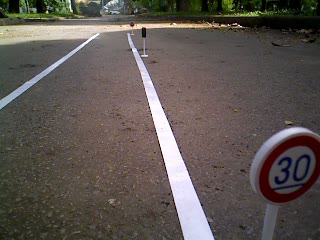limit 30: (247, 125, 320, 205)
